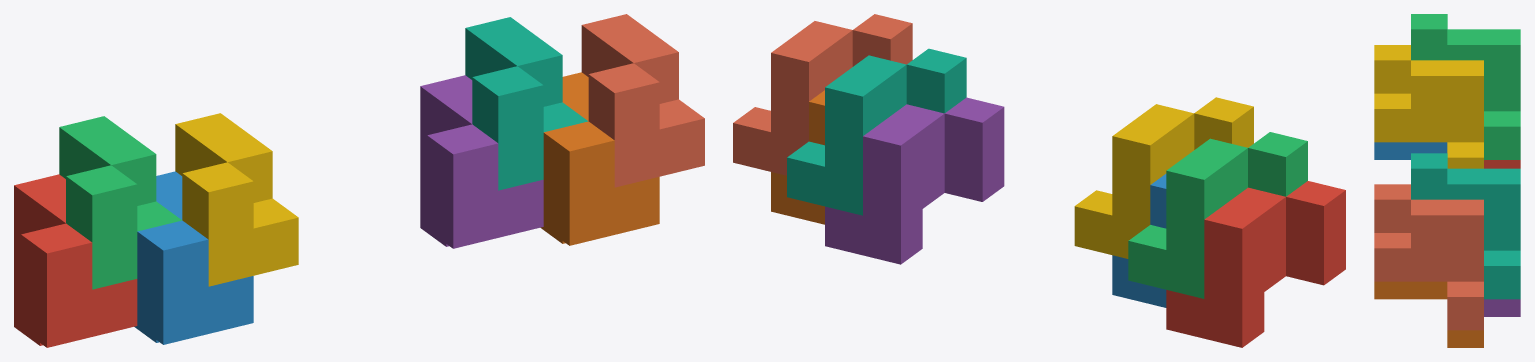
The model's file is tiling.obj.
The picture shows the model from 3 angles, left to right: view 1: azimuth 30°, elevation 25°; view 2: azimuth 150°, elevation 25°; view 3: azimuth 270°, elevation 25°; orthographic projection. The views are drawn at different scales.
Parts seen in each view (by area): view 1: copy_1_domain_8, copy_1_domain_4, copy_1_domain_5, copy_1_domain_1, copy_1_domain_7, copy_1_domain_3, copy_1_domain_2, copy_1_domain_6; view 2: copy_1_domain_1, copy_1_domain_5, copy_1_domain_3, copy_1_domain_7, copy_1_domain_4, copy_1_domain_8, copy_1_domain_2, copy_1_domain_6; view 3: copy_1_domain_8, copy_1_domain_4, copy_1_domain_7, copy_1_domain_3, copy_1_domain_6, copy_1_domain_2, copy_1_domain_5, copy_1_domain_1.
Part boxes in pixels (bbox=[...]): copy_1_domain_8: bbox=[581, 14, 704, 187]; copy_1_domain_4: bbox=[175, 113, 298, 286]; copy_1_domain_5: bbox=[420, 75, 543, 248]; copy_1_domain_1: bbox=[14, 174, 137, 347]; copy_1_domain_7: bbox=[465, 17, 588, 190]; copy_1_domain_3: bbox=[59, 116, 181, 289]; copy_1_domain_2: bbox=[134, 171, 253, 344]; copy_1_domain_6: bbox=[540, 72, 659, 245]; copy_1_domain_1: bbox=[1166, 181, 1345, 347]; copy_1_domain_5: bbox=[825, 97, 1004, 264]; copy_1_domain_3: bbox=[1128, 132, 1307, 298]; copy_1_domain_7: bbox=[787, 48, 966, 215]; copy_1_domain_4: bbox=[1074, 97, 1253, 258]; copy_1_domain_8: bbox=[733, 14, 912, 175]; copy_1_domain_2: bbox=[1112, 174, 1166, 307]; copy_1_domain_6: bbox=[771, 90, 824, 224]; copy_1_domain_8: bbox=[1374, 184, 1483, 330]; copy_1_domain_4: bbox=[1374, 45, 1483, 168]; copy_1_domain_7: bbox=[1411, 153, 1520, 299]; copy_1_domain_3: bbox=[1411, 14, 1520, 159]; copy_1_domain_6: bbox=[1374, 281, 1483, 347]; copy_1_domain_2: bbox=[1374, 142, 1447, 159]; copy_1_domain_5: bbox=[1484, 299, 1520, 316]; copy_1_domain_1: bbox=[1484, 160, 1520, 168].
Bounding box in the file's own units: 15 × 4 × 4.
